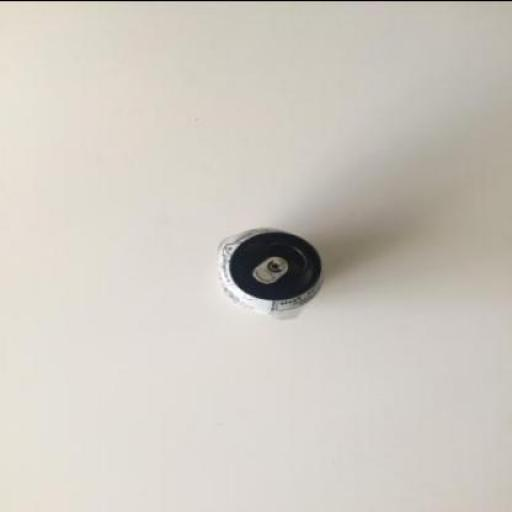metal: (216, 228, 327, 320)
